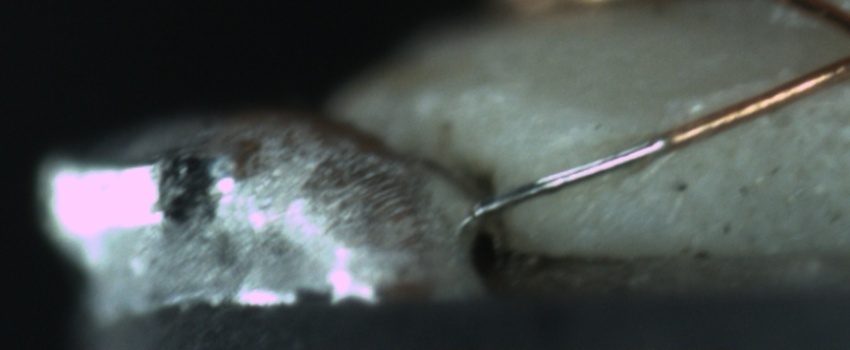TS: (475, 135, 664, 220)
